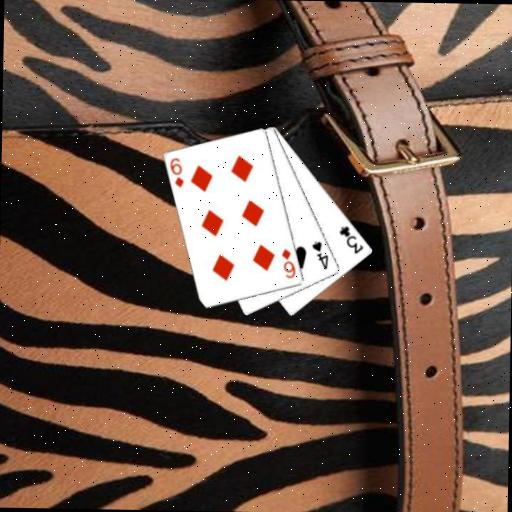3C: (337, 223, 366, 256)
4S: (309, 239, 330, 271)
6D: (279, 246, 298, 280), (167, 155, 186, 189)
